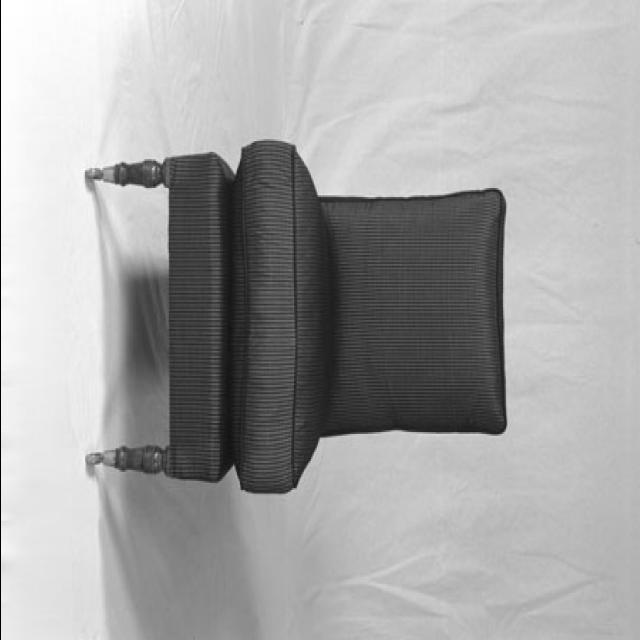chair: (80, 135, 510, 497)
